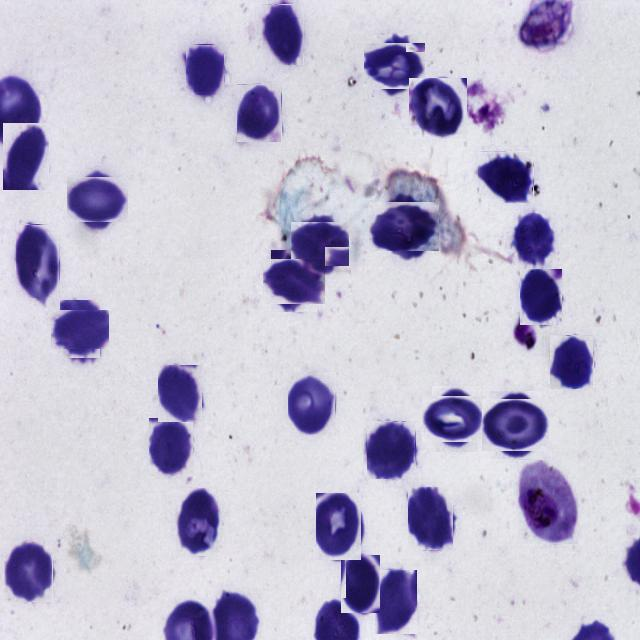red blood cell: (486, 395, 546, 455), (374, 196, 434, 256), (409, 78, 467, 139), (172, 488, 222, 556), (16, 224, 60, 298), (427, 391, 483, 447), (316, 492, 362, 560), (3, 123, 49, 190), (4, 540, 53, 602), (288, 372, 336, 435), (408, 486, 454, 550), (368, 39, 422, 93), (70, 172, 124, 226), (267, 254, 321, 308), (478, 151, 534, 203), (367, 421, 416, 479), (294, 218, 346, 270), (375, 570, 417, 634), (237, 84, 282, 142), (262, 4, 304, 65), (149, 418, 193, 476), (158, 365, 202, 422), (56, 304, 104, 354), (550, 335, 594, 389), (341, 554, 381, 613), (520, 269, 562, 325), (512, 214, 554, 268), (186, 44, 225, 95)
schizont: (518, 460, 578, 544)
